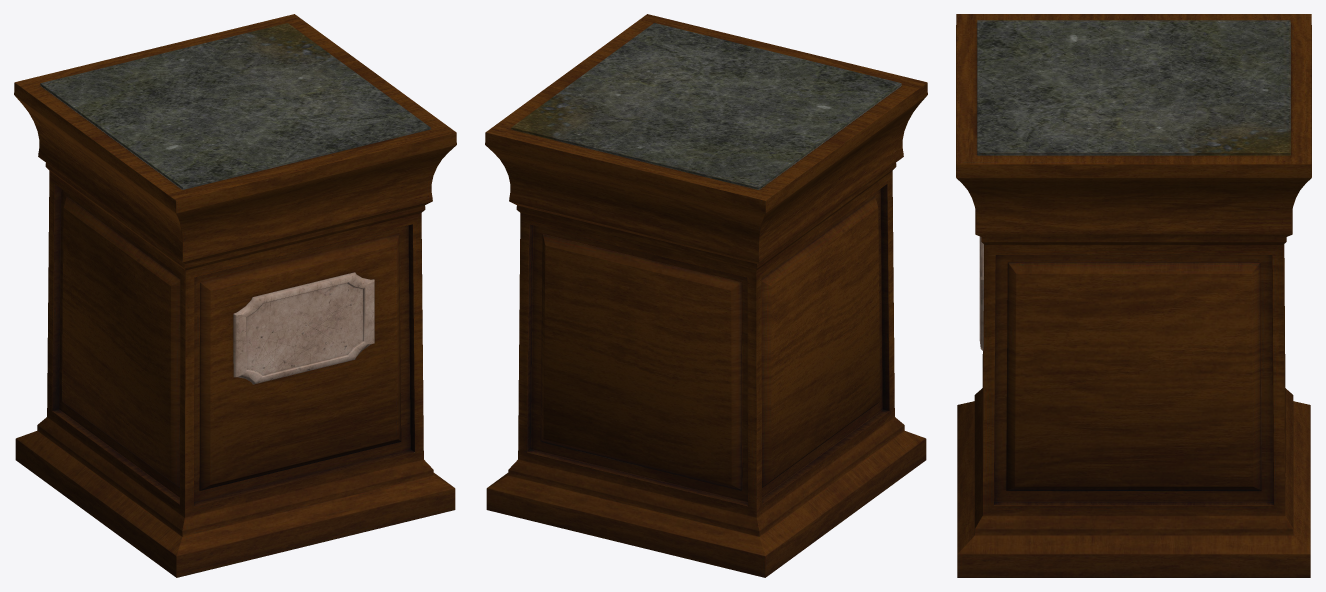
The model's file is MuseumPedestals.obj.
3 renders of one model, left to right at view 1: azimuth 30°, elevation 25°; view 2: azimuth 150°, elevation 25°; view 3: azimuth 270°, elevation 25°, orthographic. The views are drawn at different scales.
Parts seen in each view (by area): view 1: MuseumPlinthe03; view 2: MuseumPlinthe03; view 3: MuseumPlinthe03.
Boxes of the visible parts, x1,y1,x2,y2 form: MuseumPlinthe03: (14, 14, 456, 577); MuseumPlinthe03: (485, 14, 927, 577); MuseumPlinthe03: (956, 14, 1311, 577).
Bounding box in the file's own units: 14.46 × 18.7 × 14.46.
